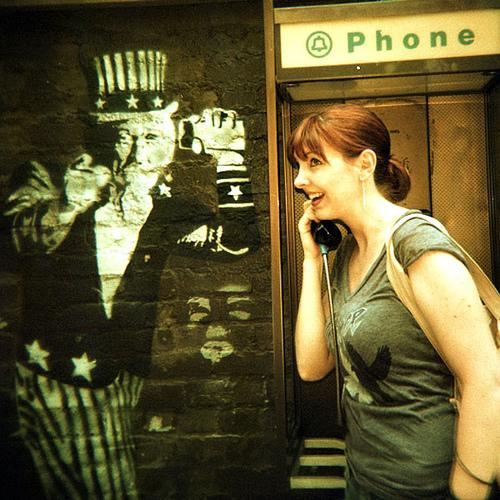person: (290, 102, 500, 500)
